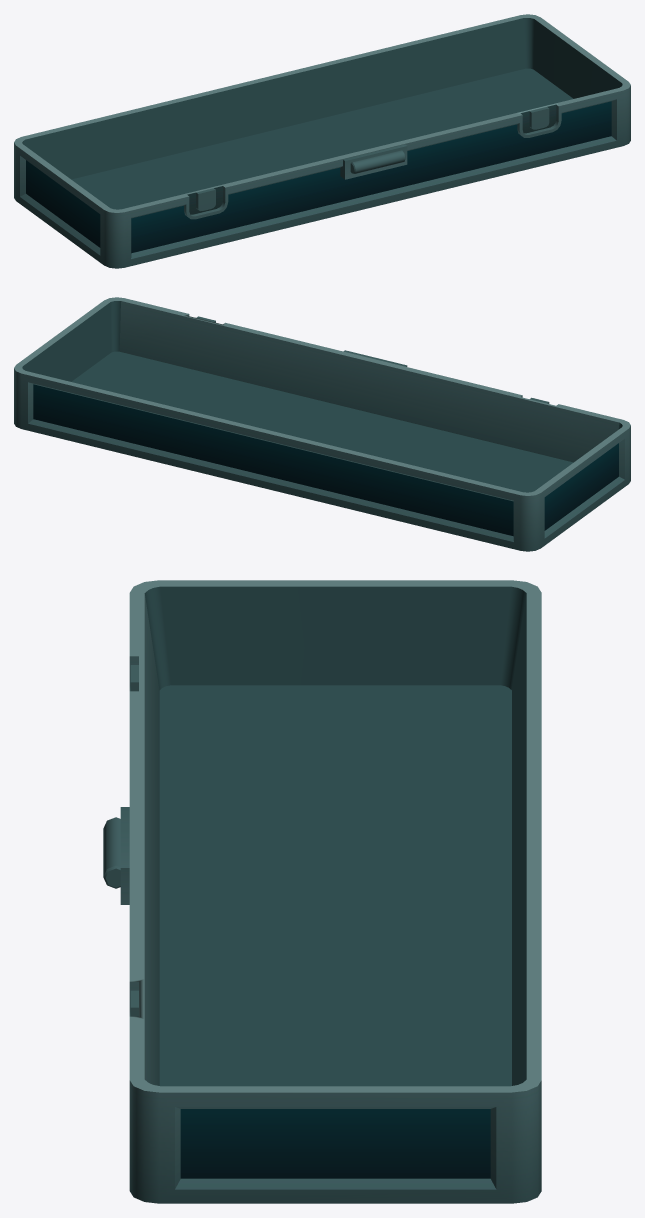
The model's file is Container_09.fbx.
The picture shows the model from 3 angles, top to bottom: view 1: azimuth 30°, elevation 25°; view 2: azimuth 150°, elevation 25°; view 3: azimuth 270°, elevation 25°; orthographic projection. The views are drawn at different scales.
Parts seen in each view (by area): view 1: Container_09; view 2: Container_09; view 3: Container_09.
Boxes of the visible parts, left/top/right/bottom form: Container_09: left=14, top=14, right=630, bottom=268; Container_09: left=14, top=297, right=630, bottom=551; Container_09: left=103, top=580, right=541, bottom=1203.
Bounding box in the file's own units: 132 × 13.41 × 47.91.
